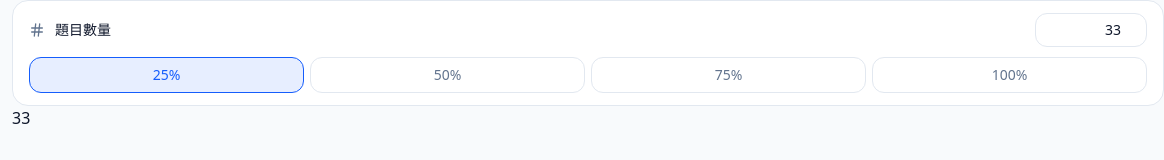
Test case: SessionSizeField › typing switches to manual mode and deselects the quick buttons
Replace the text in the number field labelled "題目數量" with "12". click: (1091, 30)
box: x1=1035 y1=13 x2=1147 y2=47
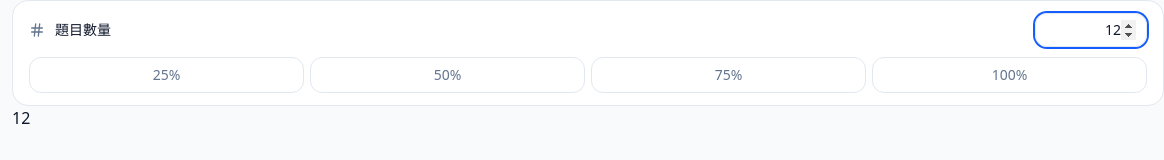
Expected: the text named "resolved" reads "12", x1=12 y1=107 x2=30 y2=129
